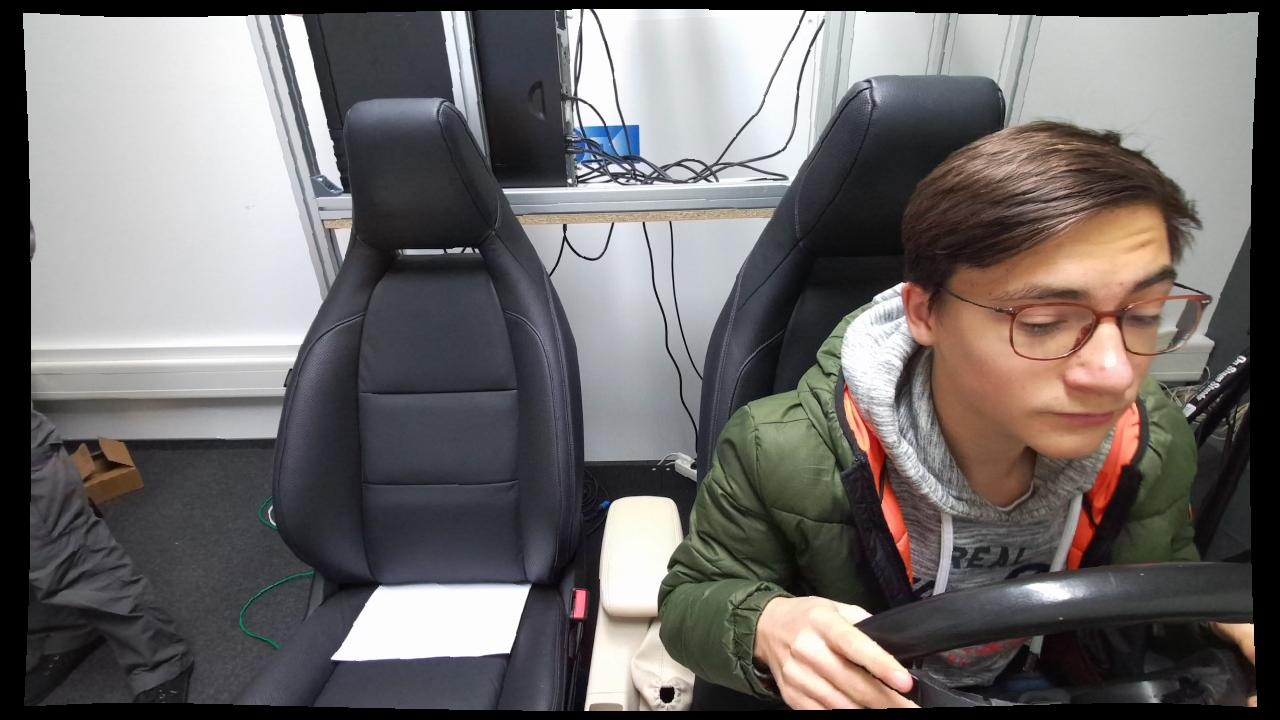Distracted: (659, 116, 1210, 709)
